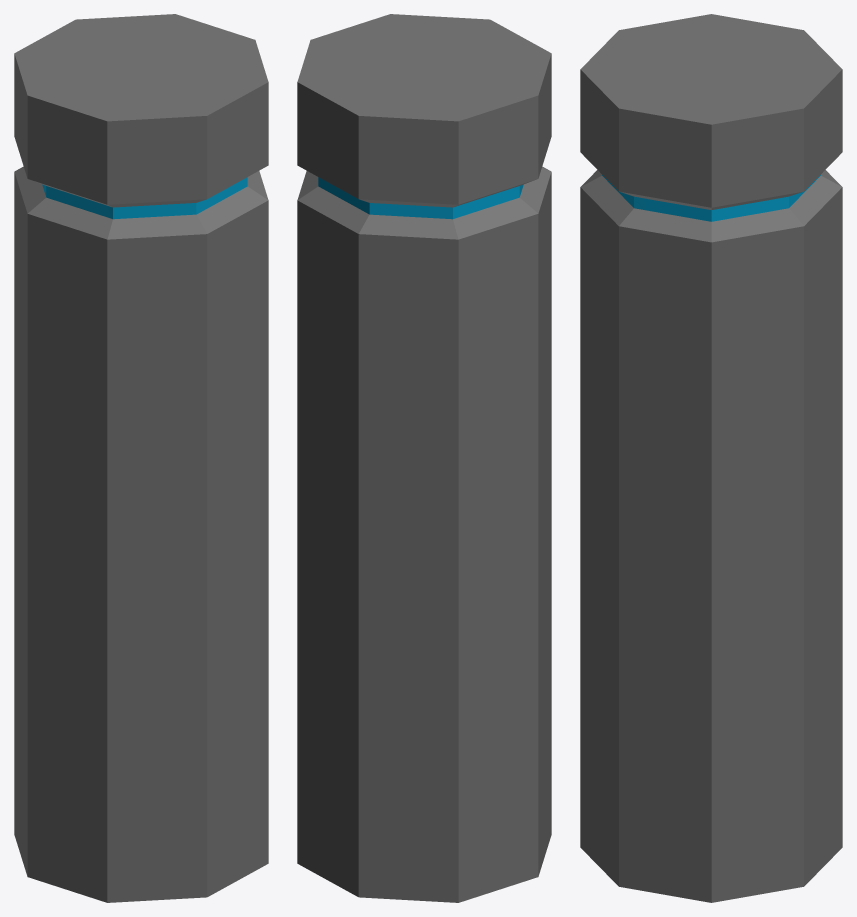
3 views of the same model, side by side, from view 1: azimuth 30°, elevation 25°; view 2: azimuth 150°, elevation 25°; view 3: azimuth 270°, elevation 25° (orthographic).
Parts seen in each view (by area): view 1: SM_B_Part16; view 2: SM_B_Part16; view 3: SM_B_Part16.
Boxes of the visible parts, x1,y1,x2,y2 form: SM_B_Part16: (14,14,268,902); SM_B_Part16: (297,14,551,902); SM_B_Part16: (580,14,842,902).
Size of the model in its own units: 59.04 by 59.04 by 193.
Materials: 1 (1 with a texture image).
